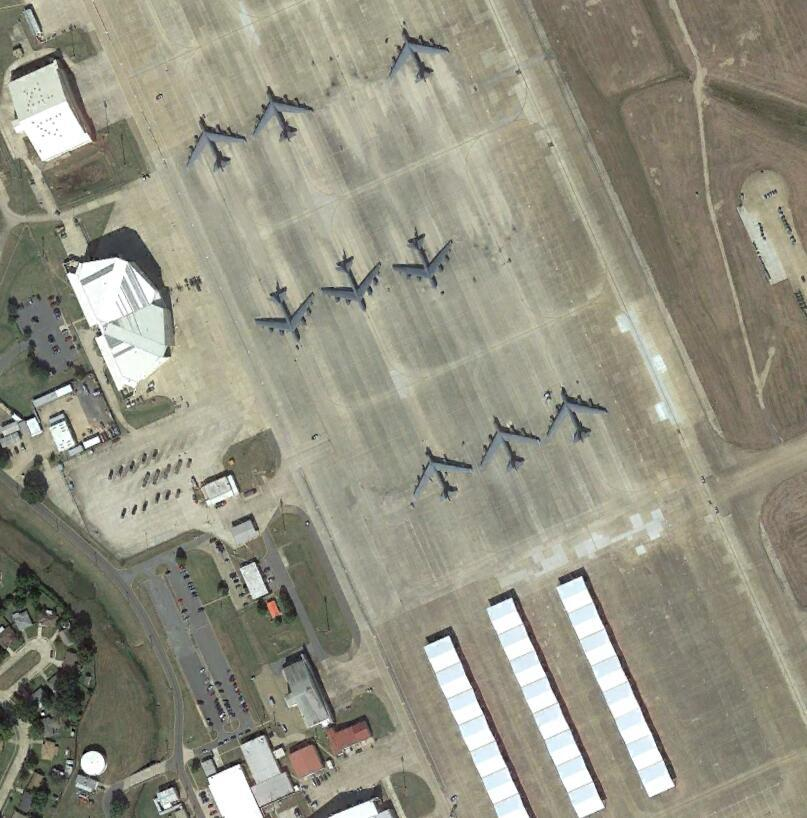A8: (249, 283, 319, 346), (478, 406, 542, 473), (390, 228, 459, 290), (405, 443, 475, 504), (542, 381, 609, 444), (384, 25, 453, 86), (180, 111, 248, 171), (249, 83, 314, 143), (319, 251, 385, 310)
